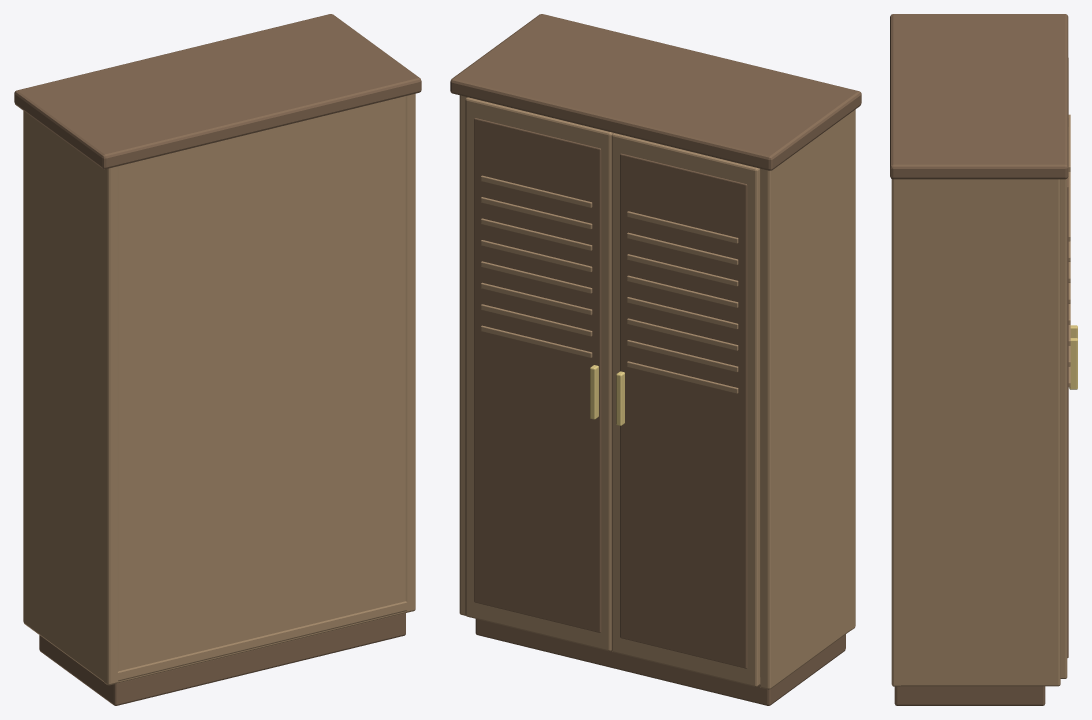
File: SM_CabinetPantry.fbx
3 renders of one model, left to right at view 1: azimuth 30°, elevation 25°; view 2: azimuth 150°, elevation 25°; view 3: azimuth 270°, elevation 25°, orthographic. The views are drawn at different scales.
Parts seen in each view (by area): view 1: CabinetPantry_Body; view 2: CabinetPantry_Body, Door_L_Hinge, Door_R_Hinge; view 3: CabinetPantry_Body, Door_R_Hinge, Door_L_Hinge.
Boxes of the visible parts, left/top/right/bottom form: CabinetPantry_Body: left=14, top=14, right=421, bottom=705; CabinetPantry_Body: left=450, top=14, right=861, bottom=705; Door_L_Hinge: left=611, top=133, right=760, bottom=686; Door_R_Hinge: left=465, top=97, right=613, bottom=651; CabinetPantry_Body: left=890, top=14, right=1068, bottom=705; Door_R_Hinge: left=1060, top=127, right=1077, bottom=678; Door_L_Hinge: left=1068, top=58, right=1077, bottom=338.
Size of the model in its own units: 118 by 61.1 by 197.
